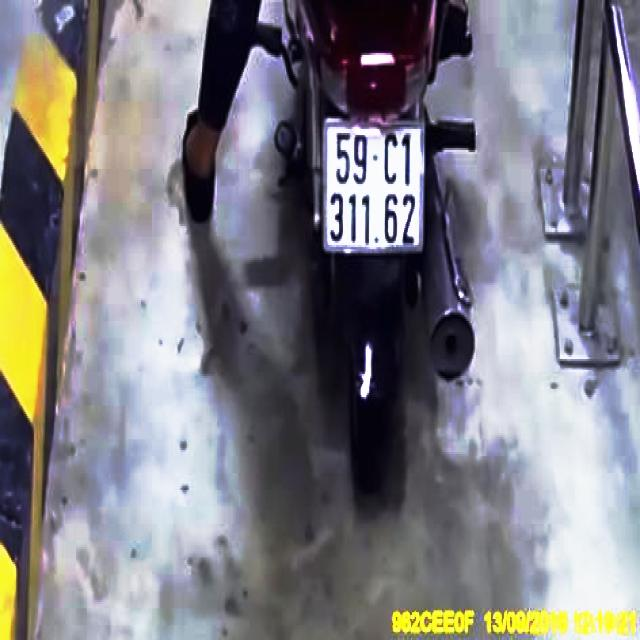license_plate: (324, 125, 425, 254)
